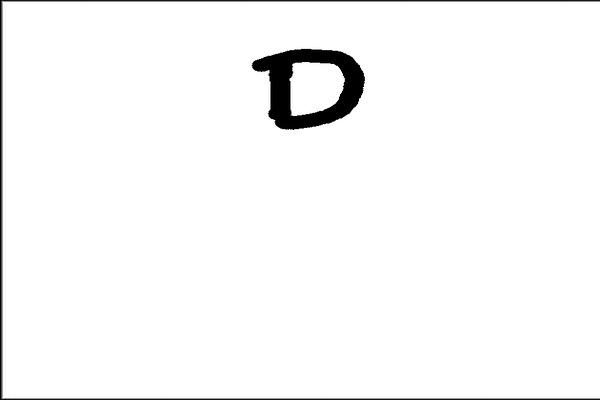D: (247, 42, 369, 135)
